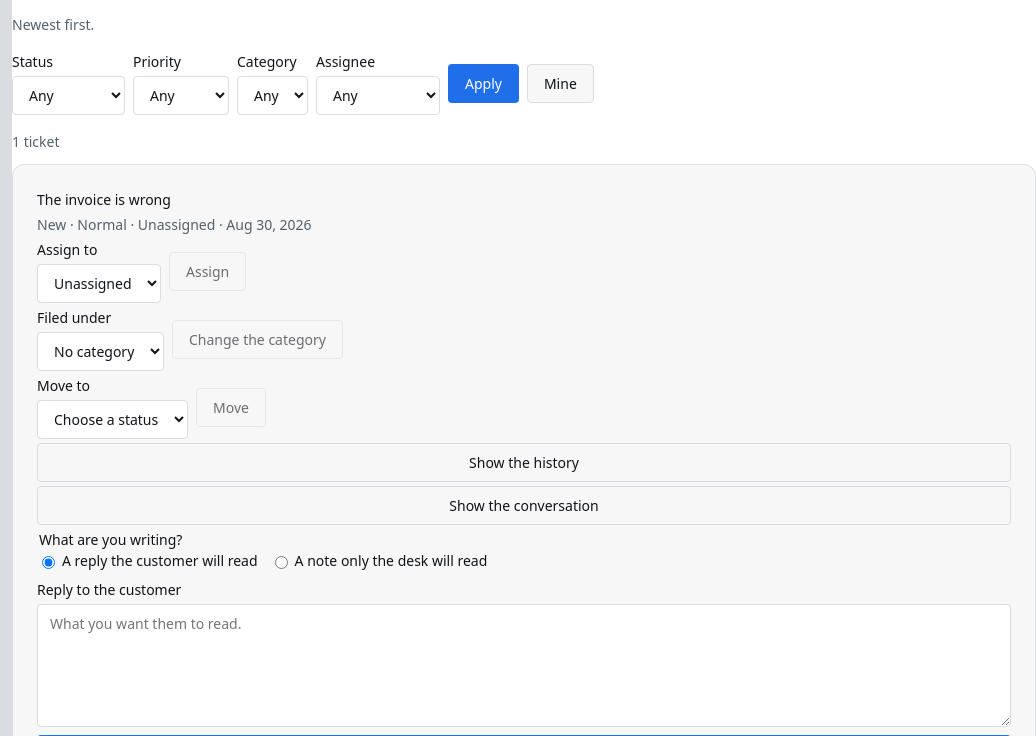
Scenario: a message written here appears in the thread, once
The image size is (1036, 736).
Type "It is still happening." into the text box labelled "Reply to the customer" at (524, 666), box [37, 604, 1011, 727]
(page scrolled)
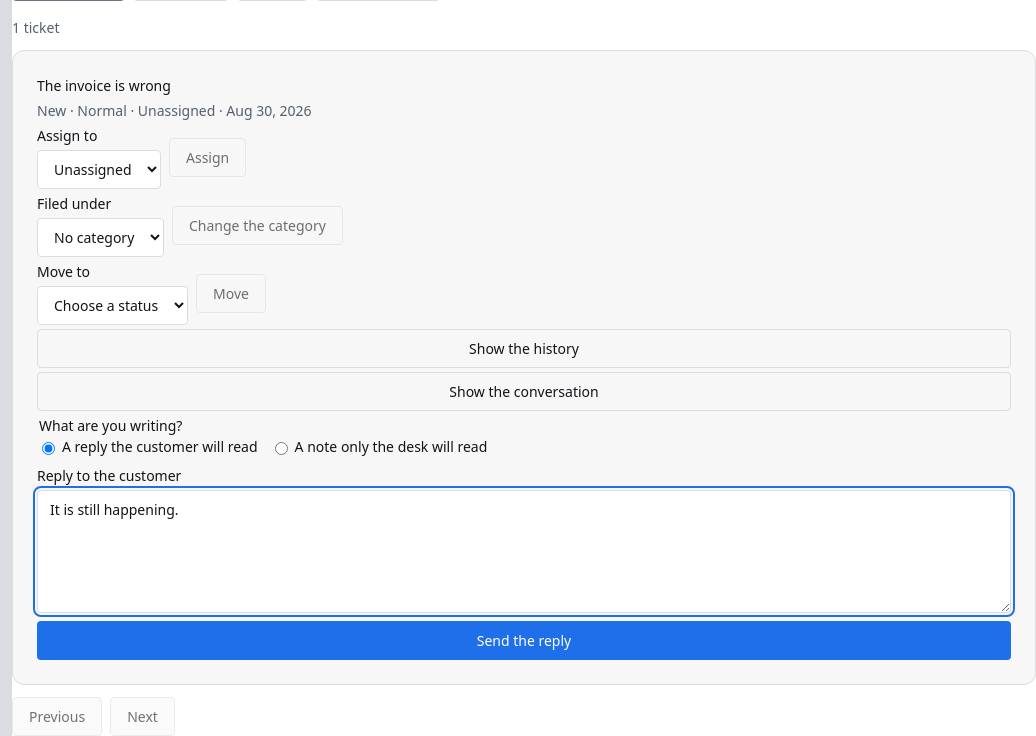
Click the button "Send the reply" at (524, 640), box [37, 621, 1011, 660]
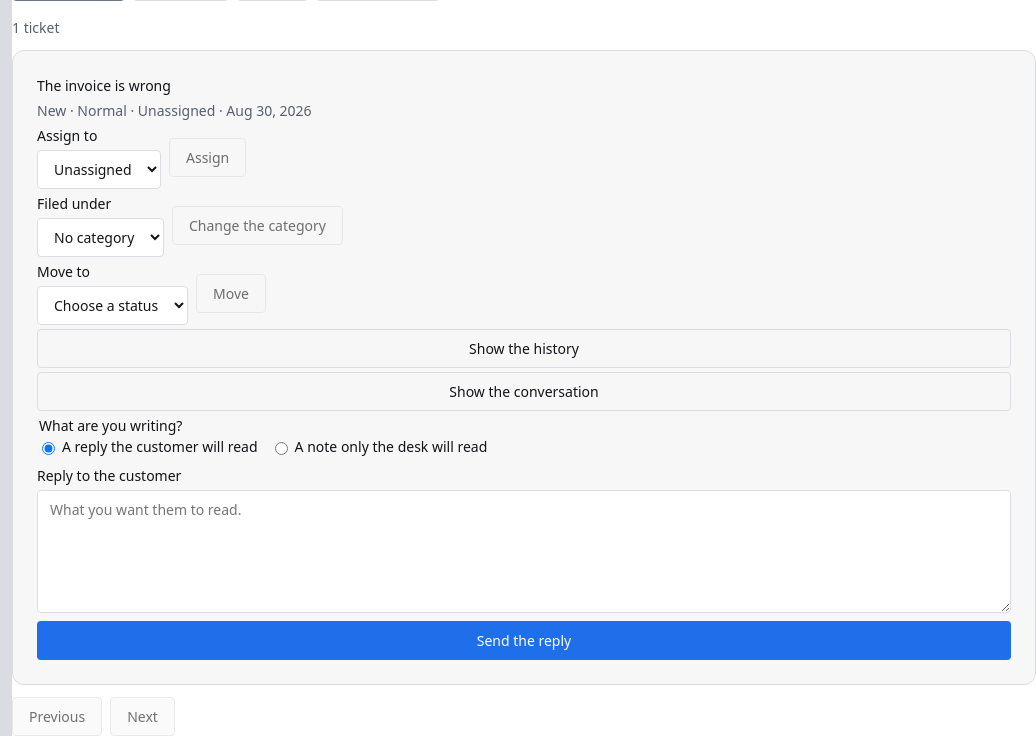
Now the text box labelled "Reply to the customer" is empty, box [37, 490, 1011, 613]
Click the button "Show the conversation" at (524, 392), box [37, 372, 1011, 411]
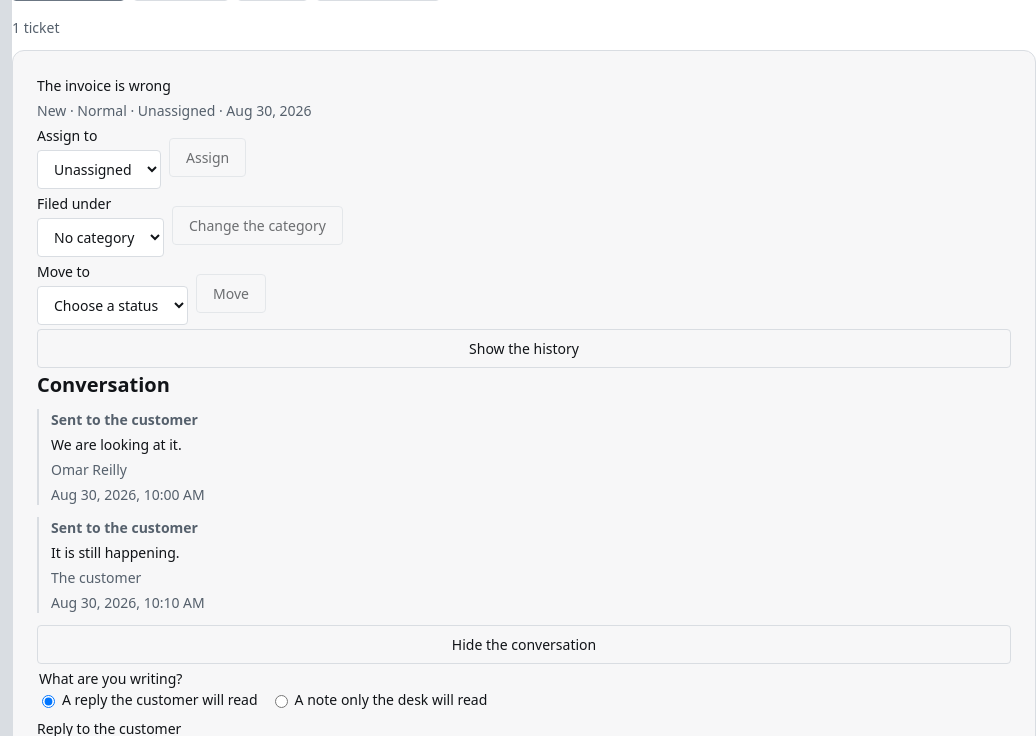
Now the number of list items with class "ticket-thread__message" is 2, box [37, 409, 1011, 505]; [37, 517, 1011, 613]
Now the text "It is still happening." is shown once, box [51, 543, 180, 562]
